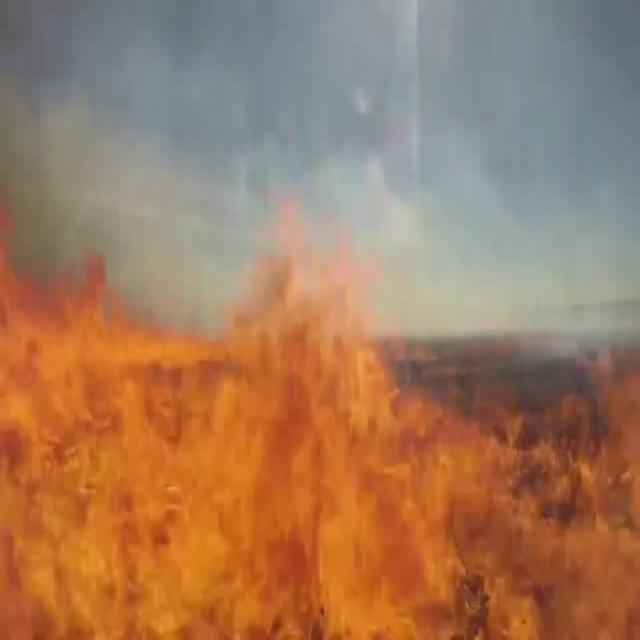Fire: (0, 169, 627, 636)
